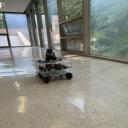cart: (36, 58, 73, 84)
